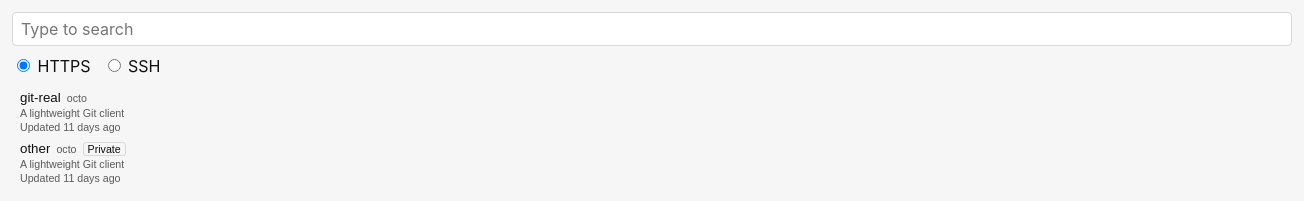
RepoBrowser search › shows the matching repositories after the debounce
Expected: the button with aria-label "Use octo/git-real" is shown, [12,86,1292,137]
In the search field named "Search repositories": (652, 29) [12,12,1292,46], type "found"
Wait 300 ms
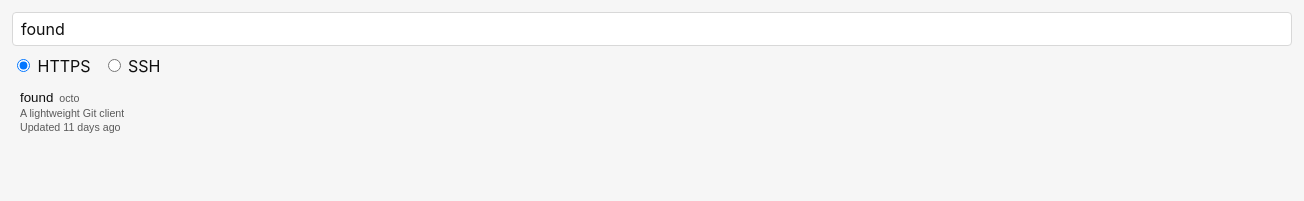
Expected: the button with aria-label "Use octo/found" is shown, [12,86,1292,137]
